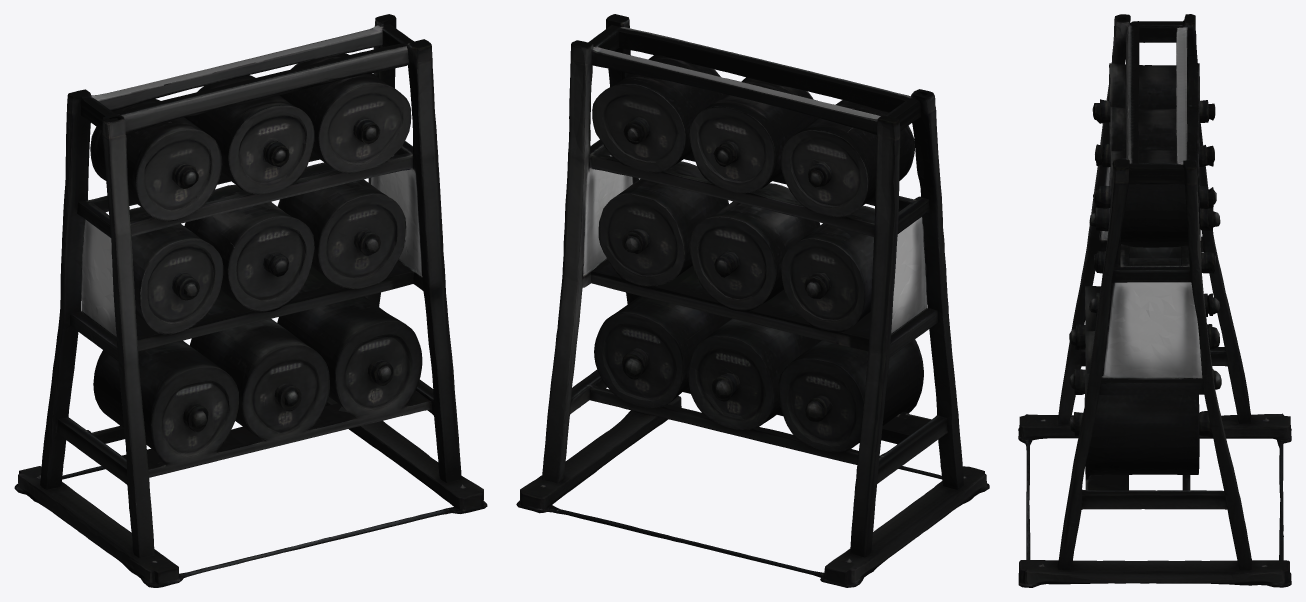
The picture shows the model from 3 angles, left to right: view 1: azimuth 30°, elevation 25°; view 2: azimuth 150°, elevation 25°; view 3: azimuth 270°, elevation 25°; orthographic projection. The views are drawn at different scales.
Visible parts, largest first — view 1: world; view 2: world; view 3: world.
Boxes of the visible parts, bbox=[...] form: world: bbox=[14, 14, 487, 587]; world: bbox=[516, 14, 989, 587]; world: bbox=[1018, 14, 1291, 587].
Size of the model in its own units: 0.829 by 1 by 0.5944.
1 material, 1 textured.
